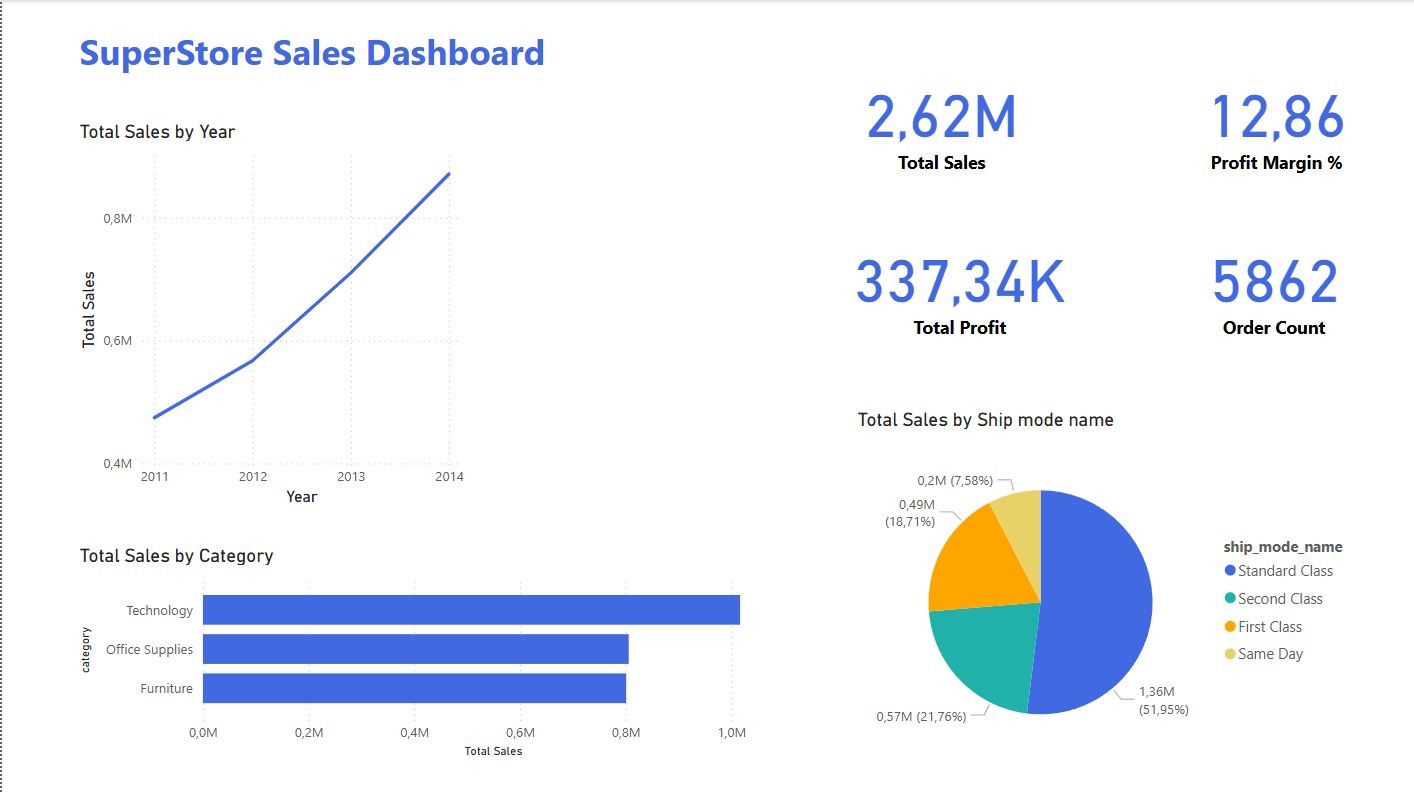

The dashboard page shown, as its layout file describes it:
{"tool":"powerbi","page":{"name":"Homepage","canvas":[1280,720],"ordinal":0},"visuals":[{"type":"card","fields":{"Values":["superstore_dw fact_sales.Total Sales"]},"box":[729.1,39.1,246.4,139.1],"z":0},{"type":"card","fields":{"Values":["superstore_dw fact_sales.Total Profit"]},"box":[729.1,195.5,279.1,124.5],"z":1000},{"type":"card","fields":{"Values":["superstore_dw fact_sales.Order Count"]},"box":[1070,190,167.3,136.4],"z":2000},{"type":"card","fields":{"Values":["superstore_dw fact_sales.Profit Margin %"]},"box":[1073.6,38.7,164,139.2],"z":3000},{"type":"clusteredBarChart","title":"Total Sales by Category","fields":{"Category":["superstore_dw dim_product.category"],"Y":["superstore_dw fact_sales.Total Sales"]},"box":[65.4,493,663.5,198.1],"z":4000},{"type":"lineChart","fields":{"Category":["superstore_dw dim_date.date_value.Variation.Date Hierarchy.Year","superstore_dw dim_date.date_value.Variation.Date Hierarchy.Quarter","superstore_dw dim_date.date_value.Variation.Date Hierarchy.Month","superstore_dw dim_date.date_value.Variation.Date Hierarchy.Day"],"Y":["superstore_dw fact_sales.Total Sales"]},"box":[65.4,108.7,358.5,354.8],"z":5000},{"type":"pieChart","title":"Total Sales by Ship mode name","fields":{"Category":["superstore_dw dim_ship_mode.ship_mode_name"],"Y":["superstore_dw fact_sales.Total Sales"]},"box":[770.4,369.5,467.2,333.6],"z":6000},{"type":"textbox","box":[65.4,19.4,453.4,71.9],"z":7000}]}

Visuals, with their boxes in screenshot pixels (x1, y1, x2, y2), scaled from the page's 1280x720 canvas onto the 1414x792 screenshot:
card - superstore_dw fact_sales.Total Sales: box=[805, 43, 1078, 196]
card - superstore_dw fact_sales.Total Profit: box=[805, 215, 1114, 352]
card - superstore_dw fact_sales.Order Count: box=[1182, 209, 1367, 359]
card - superstore_dw fact_sales.Profit Margin %: box=[1186, 43, 1367, 196]
"Total Sales by Category" clusteredBarChart: box=[72, 542, 805, 760]
lineChart - superstore_dw dim_date.date_value.Variation.Date Hierarchy.Year x superstore_dw dim_date.date_value.Variation.Date Hierarchy.Quarter: box=[72, 120, 468, 510]
"Total Sales by Ship mode name" pieChart: box=[851, 406, 1367, 773]
textbox: box=[72, 21, 573, 100]
